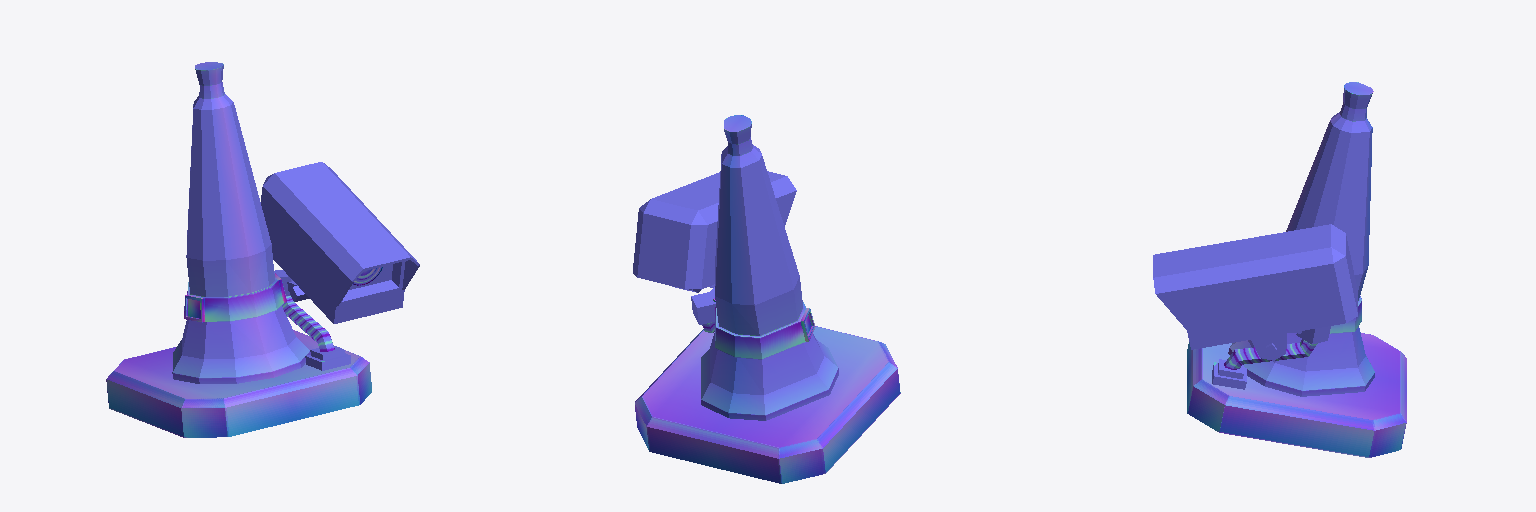
3 views of the same model, side by side, from view 1: azimuth 30°, elevation 25°; view 2: azimuth 150°, elevation 25°; view 3: azimuth 270°, elevation 25° (orthographic).
Parts seen in each view (by area): view 1: ConeHat.LOD_Cube.003; view 2: ConeHat.LOD_Cube.003; view 3: ConeHat.LOD_Cube.003.
Part boxes in pixels (x1,y1,x2,y2): ConeHat.LOD_Cube.003: (106,62,419,437); ConeHat.LOD_Cube.003: (633,115,900,483); ConeHat.LOD_Cube.003: (1153,82,1406,457).
Bounding box in the file's own units: 13.27 × 20.54 × 14.25.
Materials: 1 (1 with a texture image).